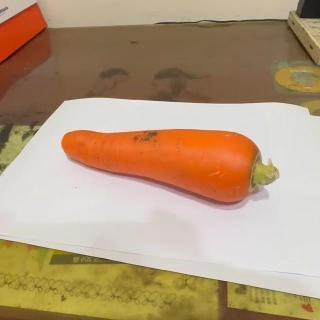carrot: (61, 126, 281, 204)
